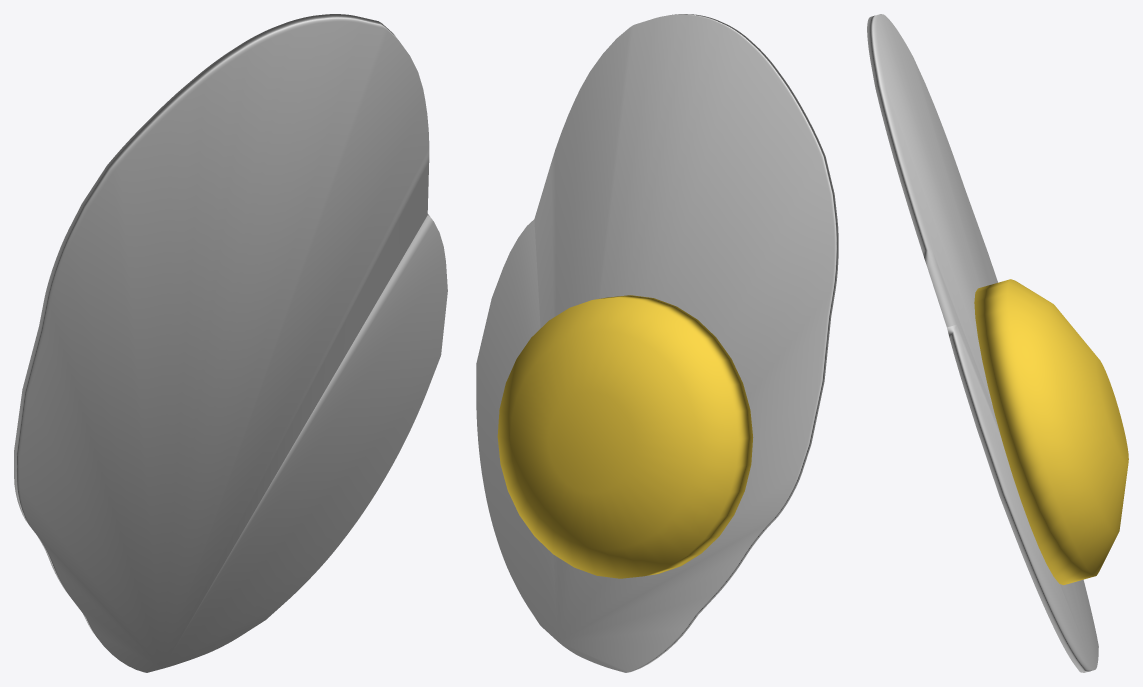
Rendered from egg002.fbx.
3 renders of one model, left to right at view 1: azimuth 30°, elevation 25°; view 2: azimuth 150°, elevation 25°; view 3: azimuth 270°, elevation 25°, orthographic. The views are drawn at different scales.
Visible parts, largest first — view 1: egg002; view 2: egg002; view 3: egg002.
Part boxes in pixels (<box>): egg002: <box>14,14,447,672</box>; egg002: <box>476,14,838,672</box>; egg002: <box>867,14,1128,672</box>.
Size of the model in its own units: 63.87 by 106 by 39.43.
